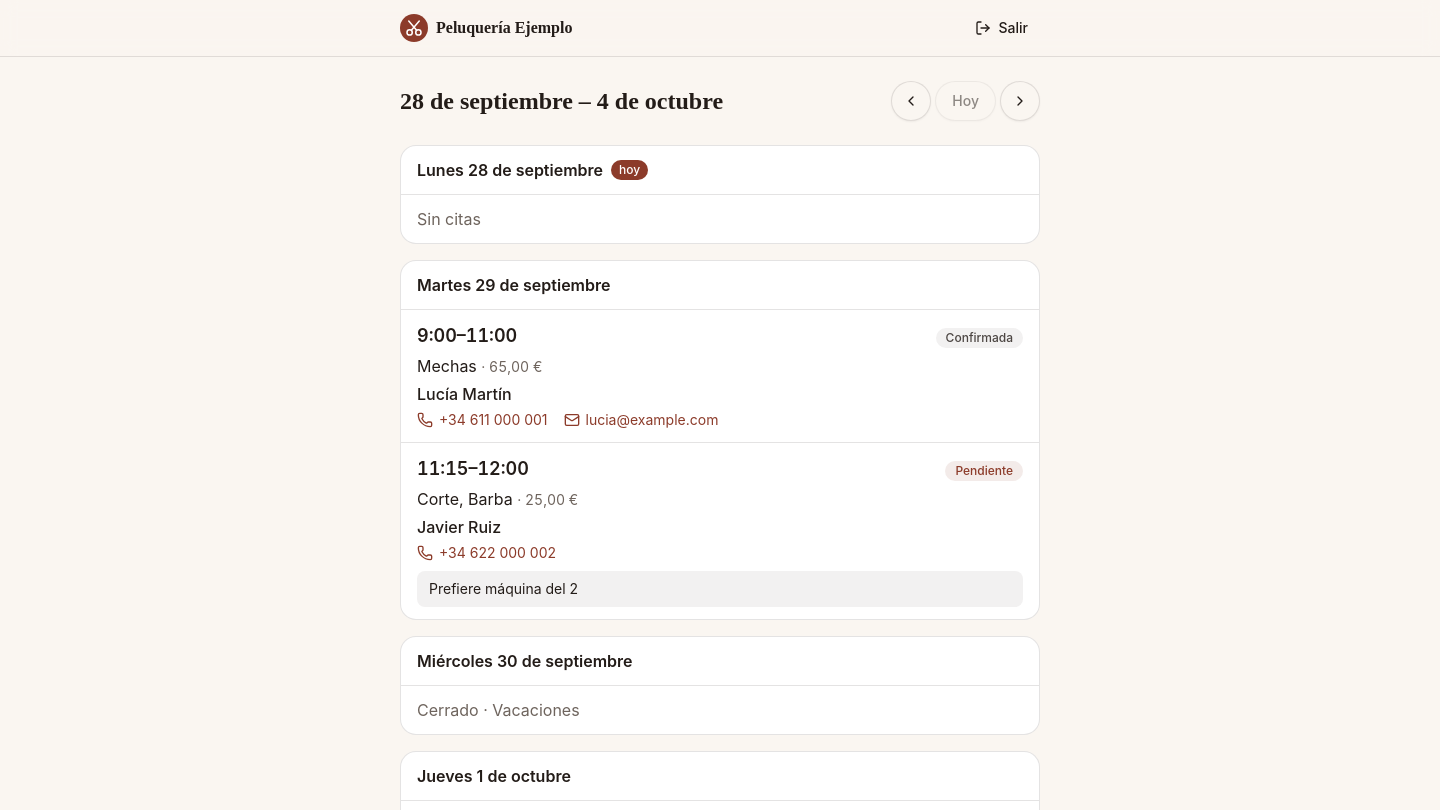
Agenda del comercio › navega entre semanas y vuelve a hoy
Expected: the heading "28 de septiembre – 4 de octubre" is shown, [400, 85, 723, 117]
Click the button named "Semana siguiente" at {"x": 1020, "y": 101}, box [1000, 81, 1040, 121]
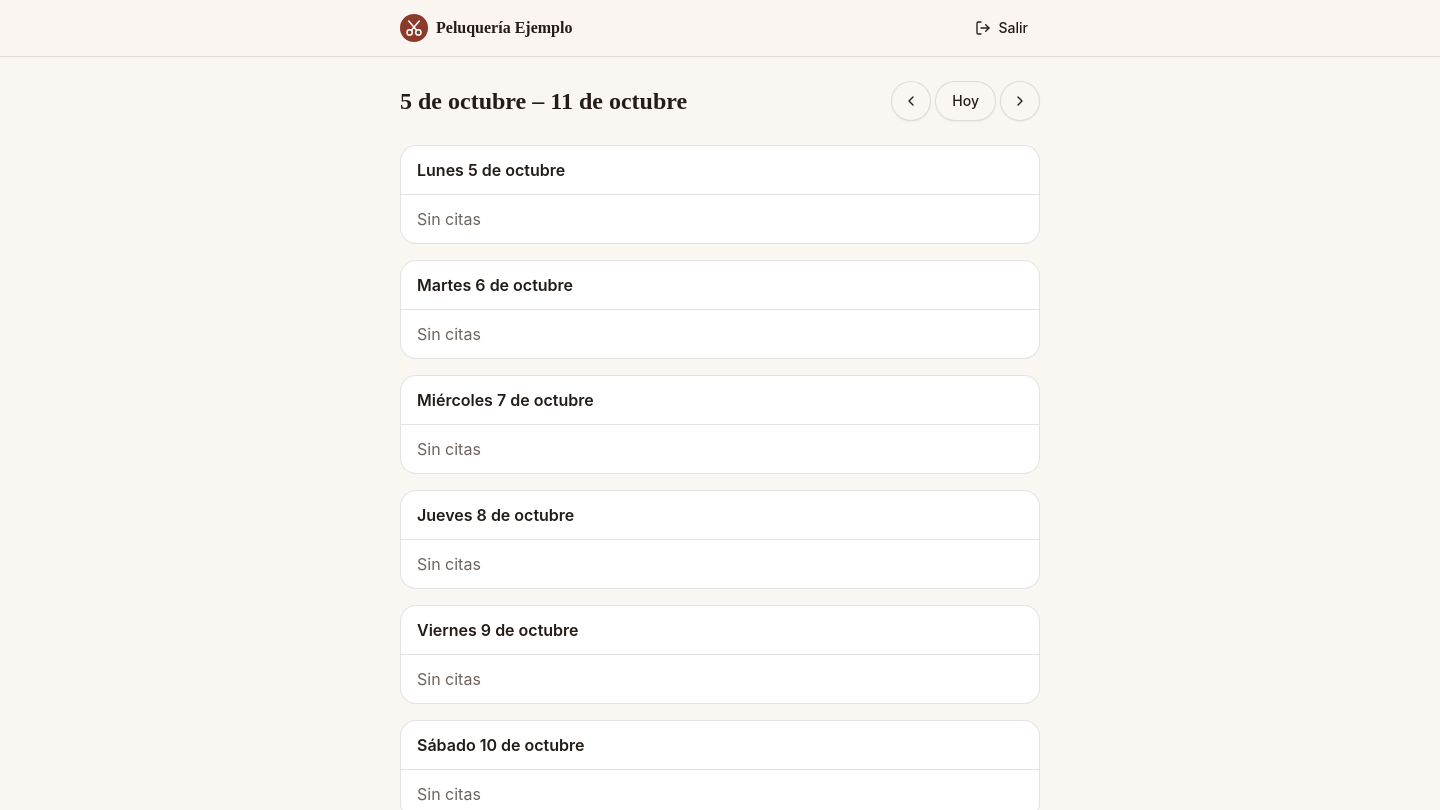
Result: the heading "5 de octubre – 11 de octubre" is shown at [400, 85, 687, 117]
Click the button named "Semana anterior" at {"x": 911, "y": 101}, box [891, 81, 931, 121]
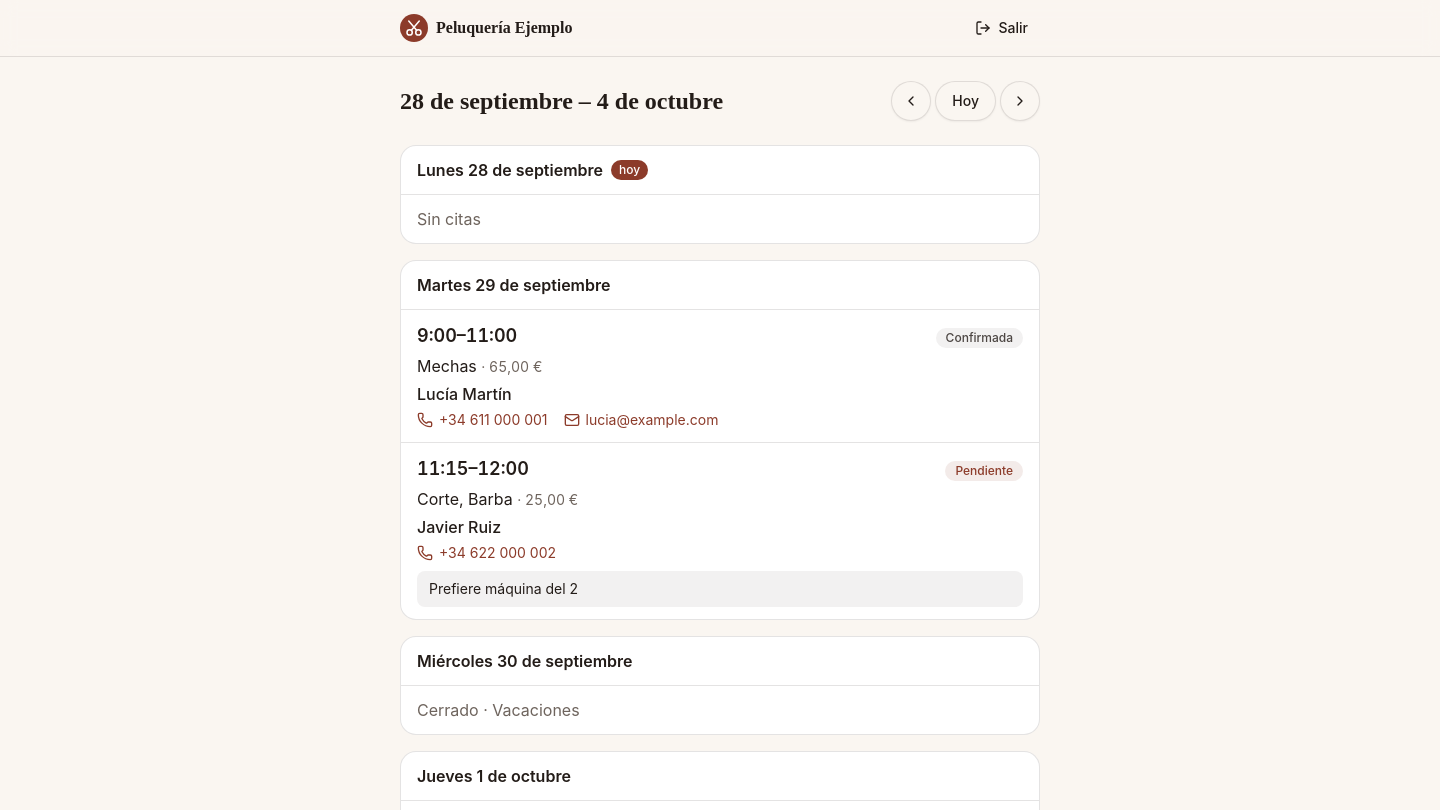
Click the button named "Semana anterior" at {"x": 911, "y": 101}, box [891, 81, 931, 121]
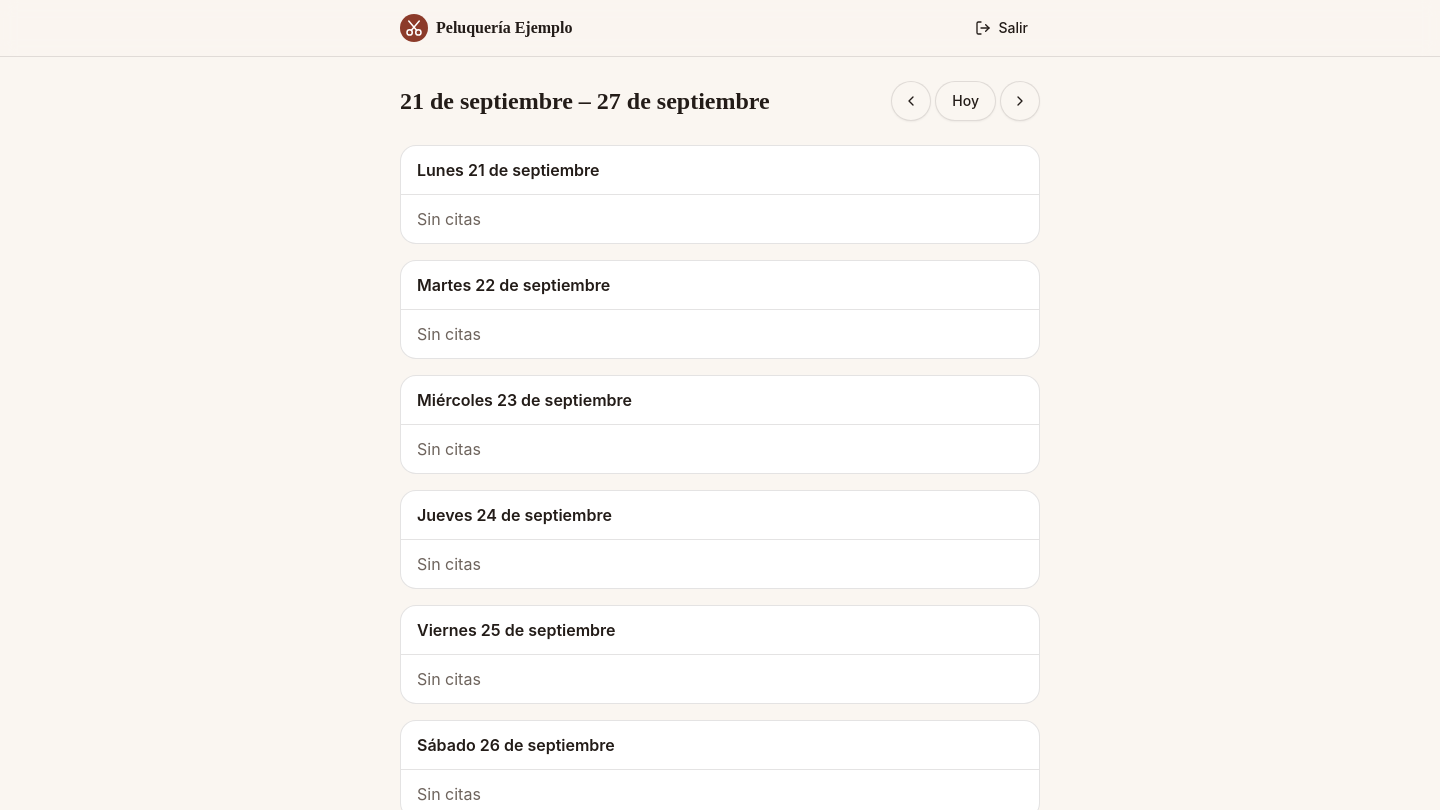
Result: the heading "21 de septiembre – 27 de septiembre" is shown at [400, 85, 770, 117]
Click the button "Hoy" at {"x": 966, "y": 101}, box [935, 81, 996, 121]
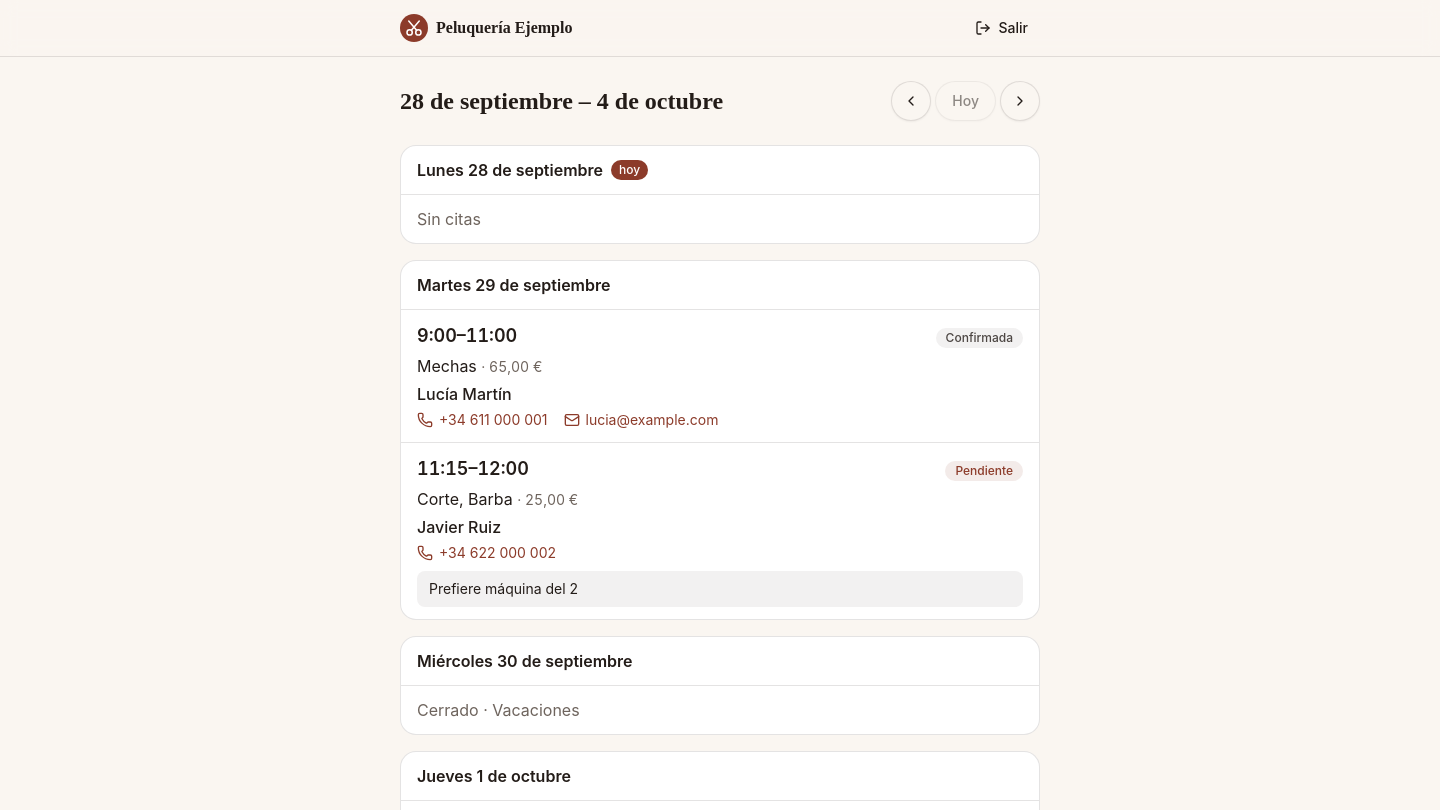
Result: the heading "28 de septiembre – 4 de octubre" is shown at [400, 85, 723, 117]
